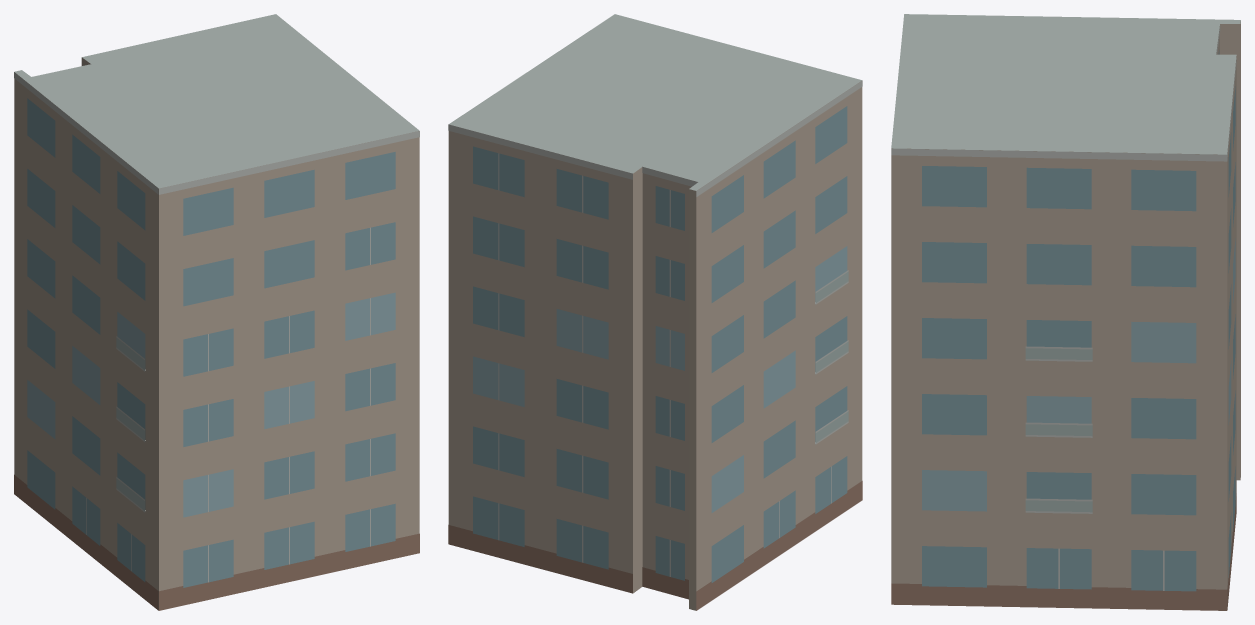
File: survey-upis-32834088.glb
3 renders of one model, left to right at view 1: azimuth 30°, elevation 25°; view 2: azimuth 150°, elevation 25°; view 3: azimuth 270°, elevation 25°, orthographic. The views are drawn at different scales.
Visible parts, largest first — view 1: survey-upis-32834088.tmp; view 2: survey-upis-32834088.tmp; view 3: survey-upis-32834088.tmp.
Boxes of the visible parts, bbox=[...] form: survey-upis-32834088.tmp: bbox=[14, 14, 419, 610]; survey-upis-32834088.tmp: bbox=[448, 14, 862, 610]; survey-upis-32834088.tmp: bbox=[891, 14, 1240, 610].
Bounding box in the file's own units: 10.65 × 16.1 × 11.19.
